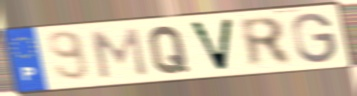9: (48, 29, 93, 86)
G: (290, 11, 339, 65)
M: (89, 26, 150, 80)
Q: (146, 24, 191, 76)
R: (236, 15, 296, 70)
V: (186, 17, 237, 74)
